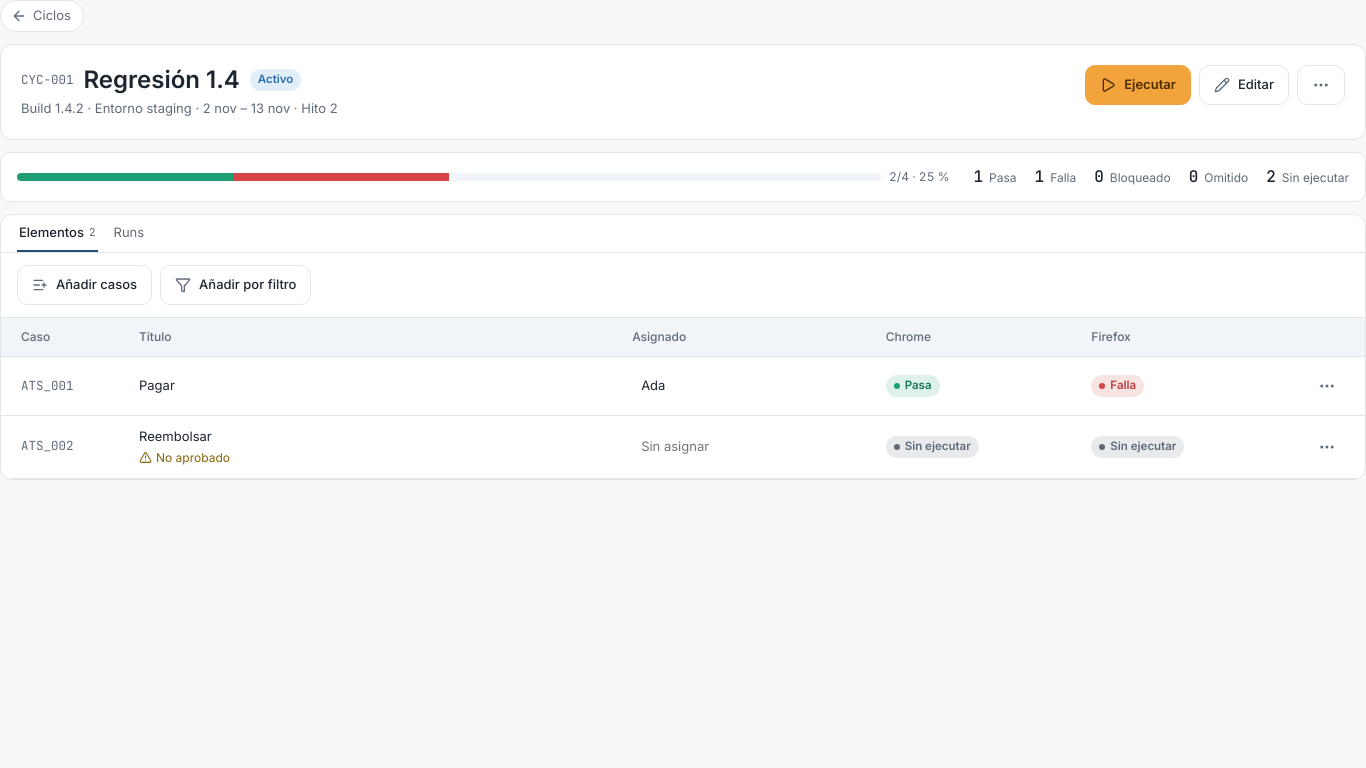
Ciclos › «Quitar del ciclo» asks first; Escape or Cancelar keep the case (NC-012)
The width and height of the screenshot is (1366, 768).
Click the button named "Acciones de ATS_001" at (1327, 386), box x1=1309 y1=368 x2=1345 y2=404
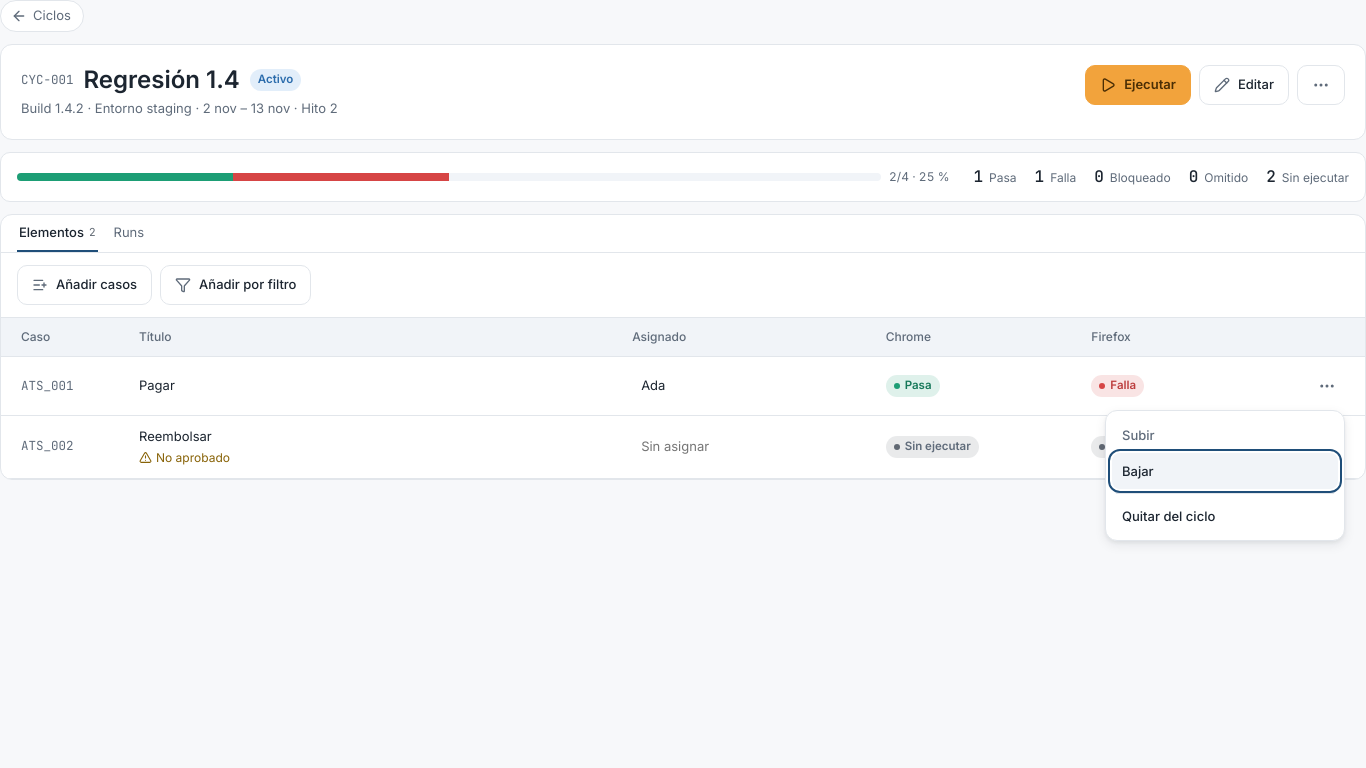
Click the menu item "Quitar del ciclo" at (1225, 516), box x1=1112 y1=498 x2=1338 y2=534
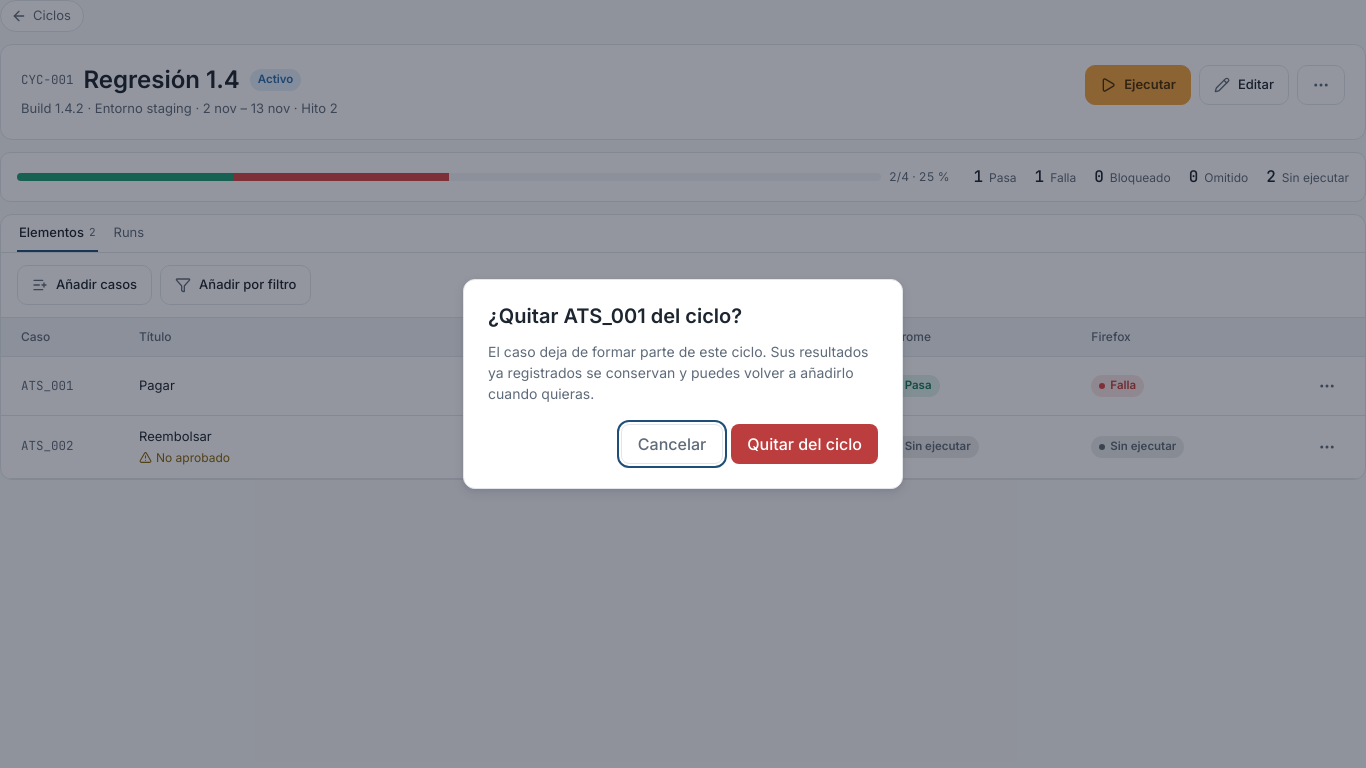
Check: the dialog "¿Quitar ATS_001 del ciclo?" shows "Sus resultados ya registrados se conservan", box x1=488 y1=343 x2=868 y2=402
Press Escape
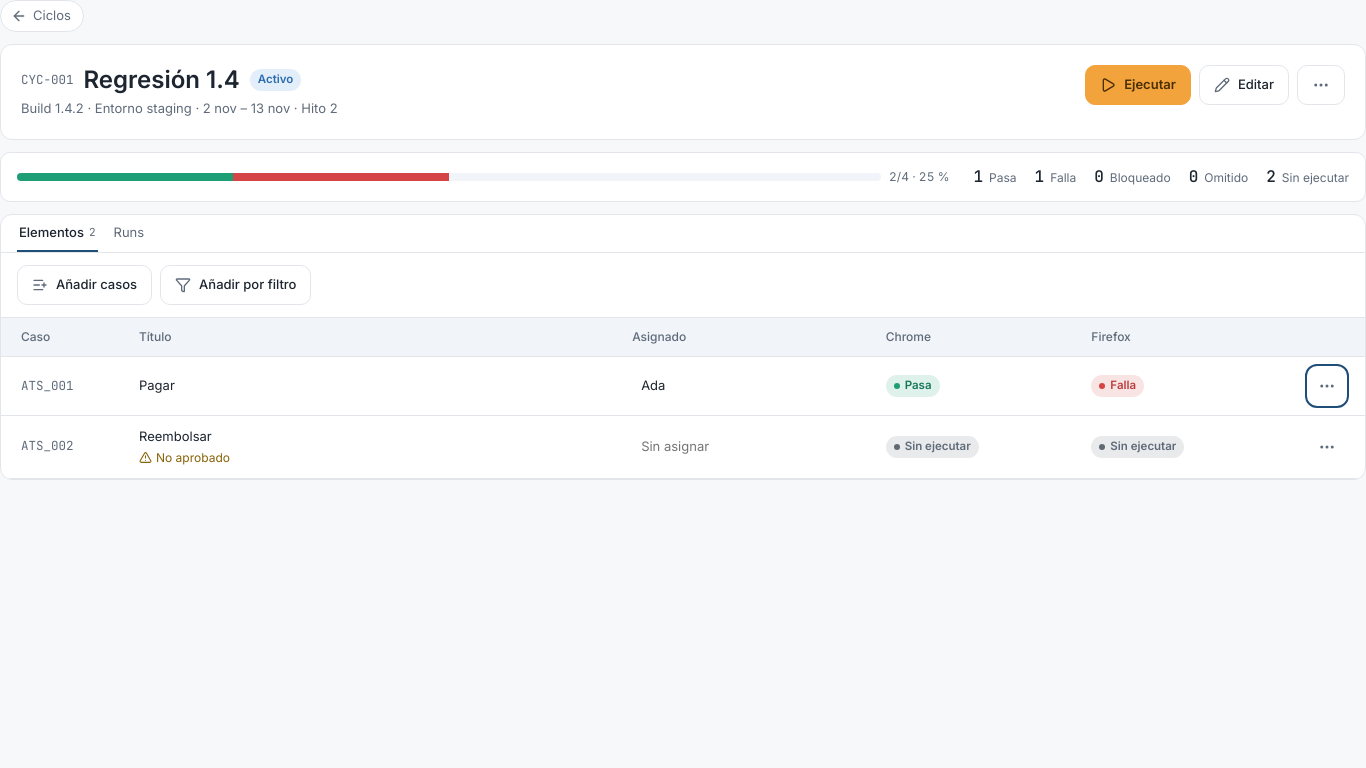
Click the button named "Acciones de ATS_001" at (1327, 386), box x1=1309 y1=368 x2=1345 y2=404
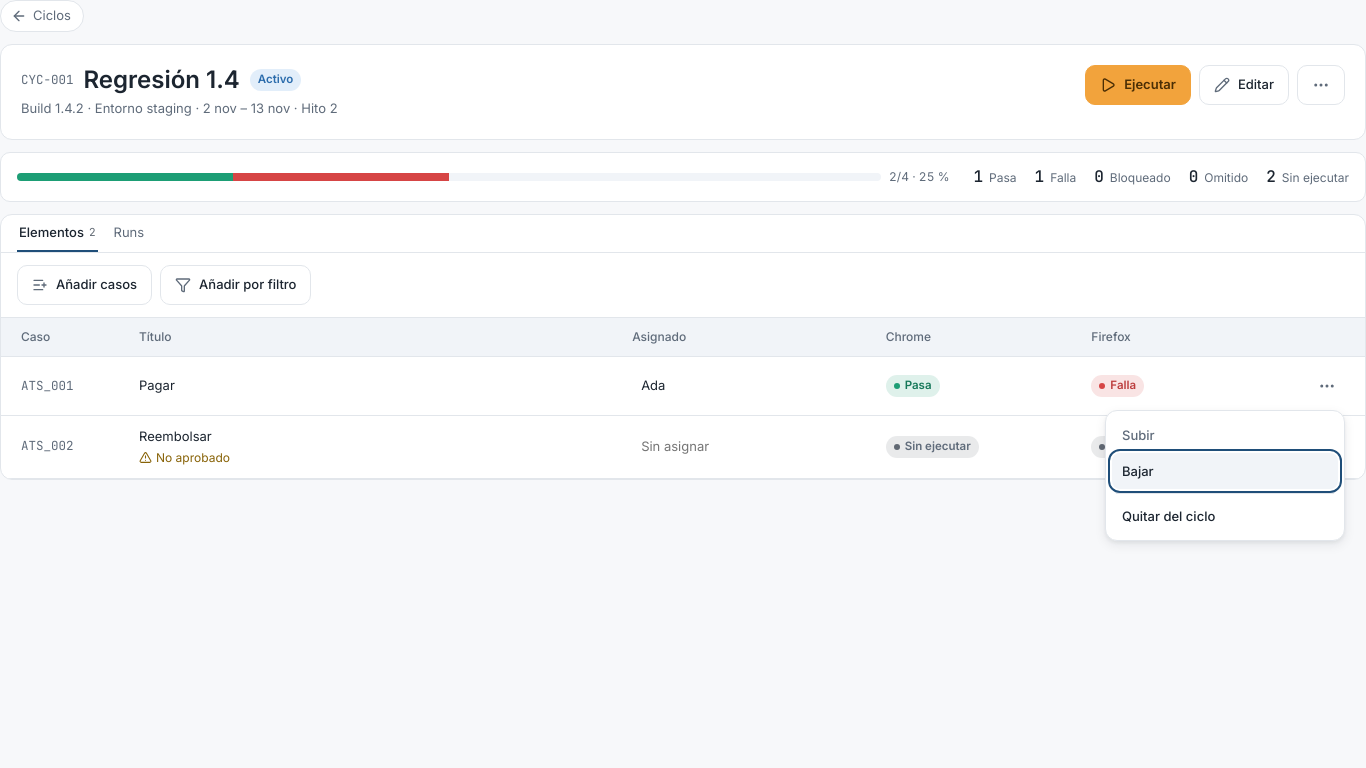
Click the menu item "Quitar del ciclo" at (1225, 516), box x1=1112 y1=498 x2=1338 y2=534
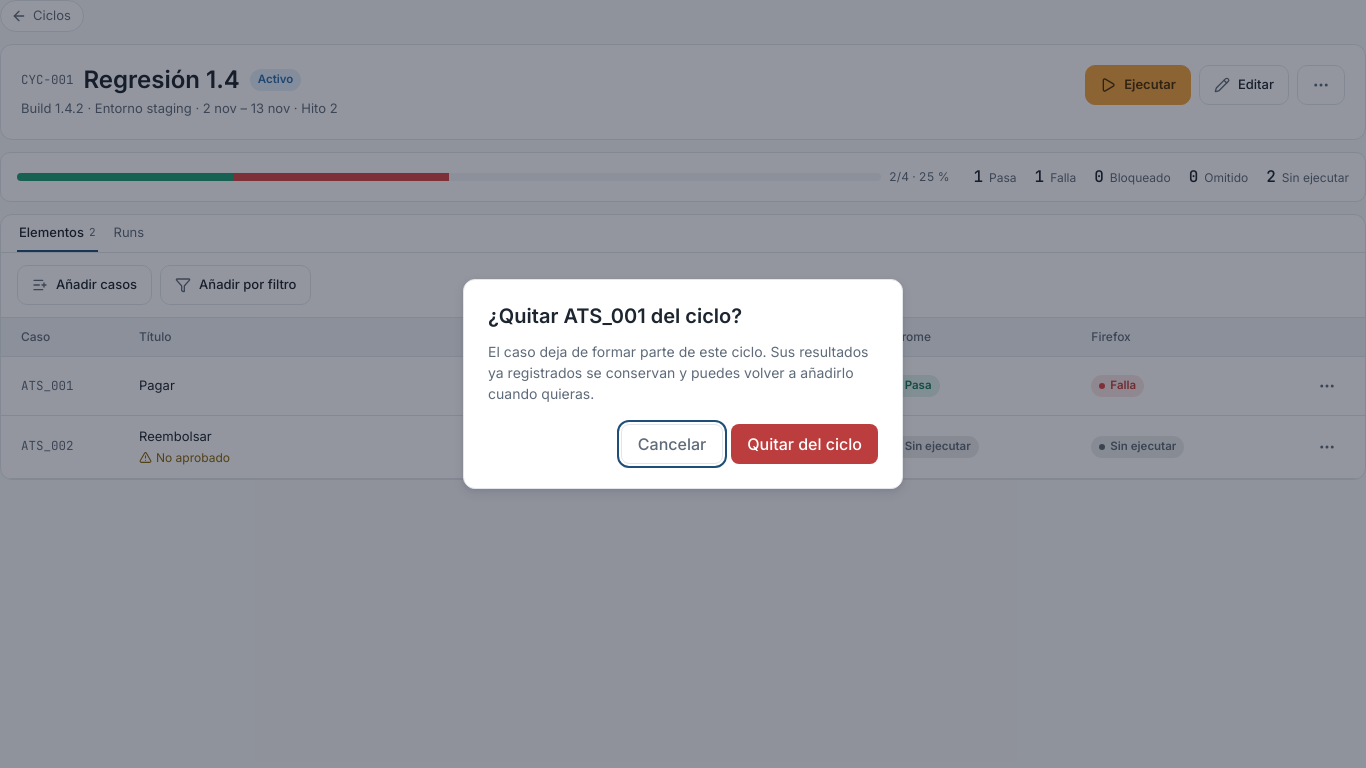
Click the button "Quitar del ciclo" at (805, 444), box x1=731 y1=424 x2=878 y2=464
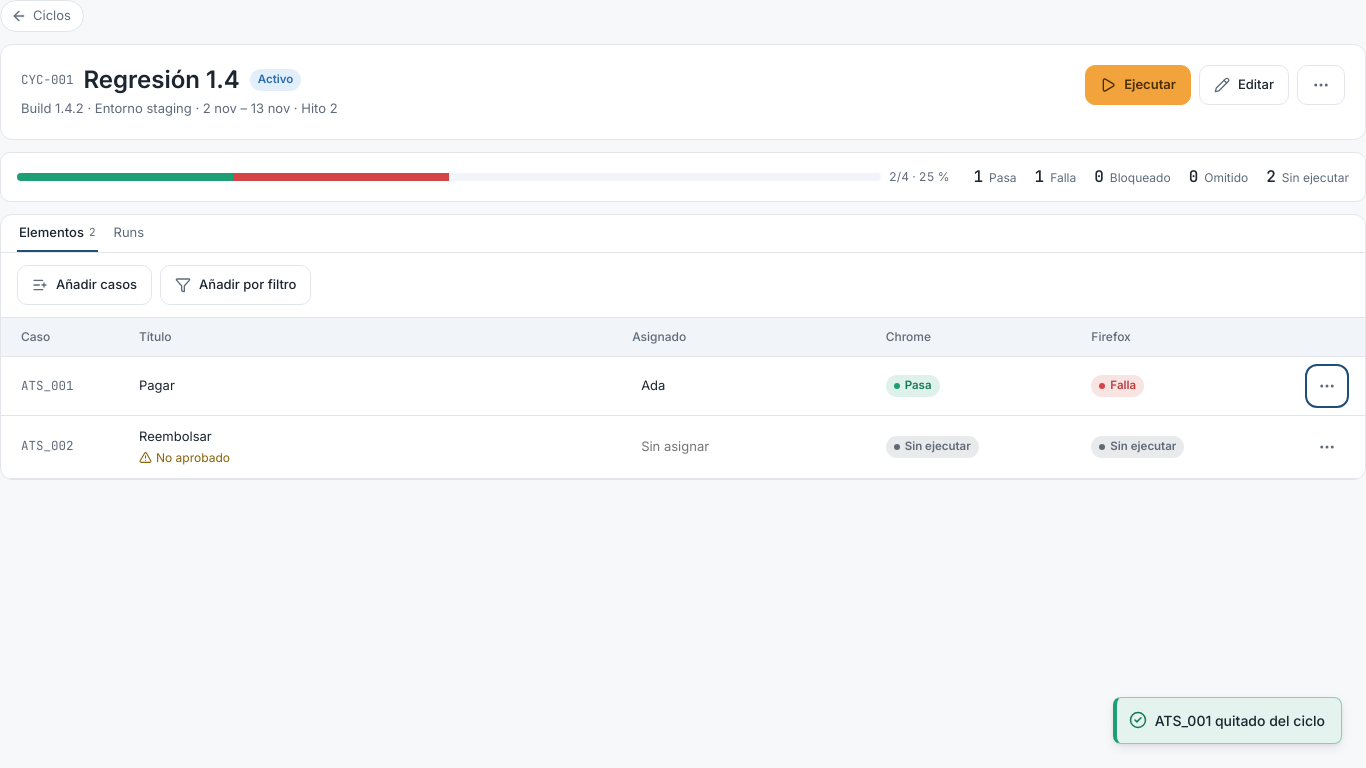
Check: the text "ATS_001 quitado del ciclo" is shown, box x1=1155 y1=710 x2=1325 y2=731
